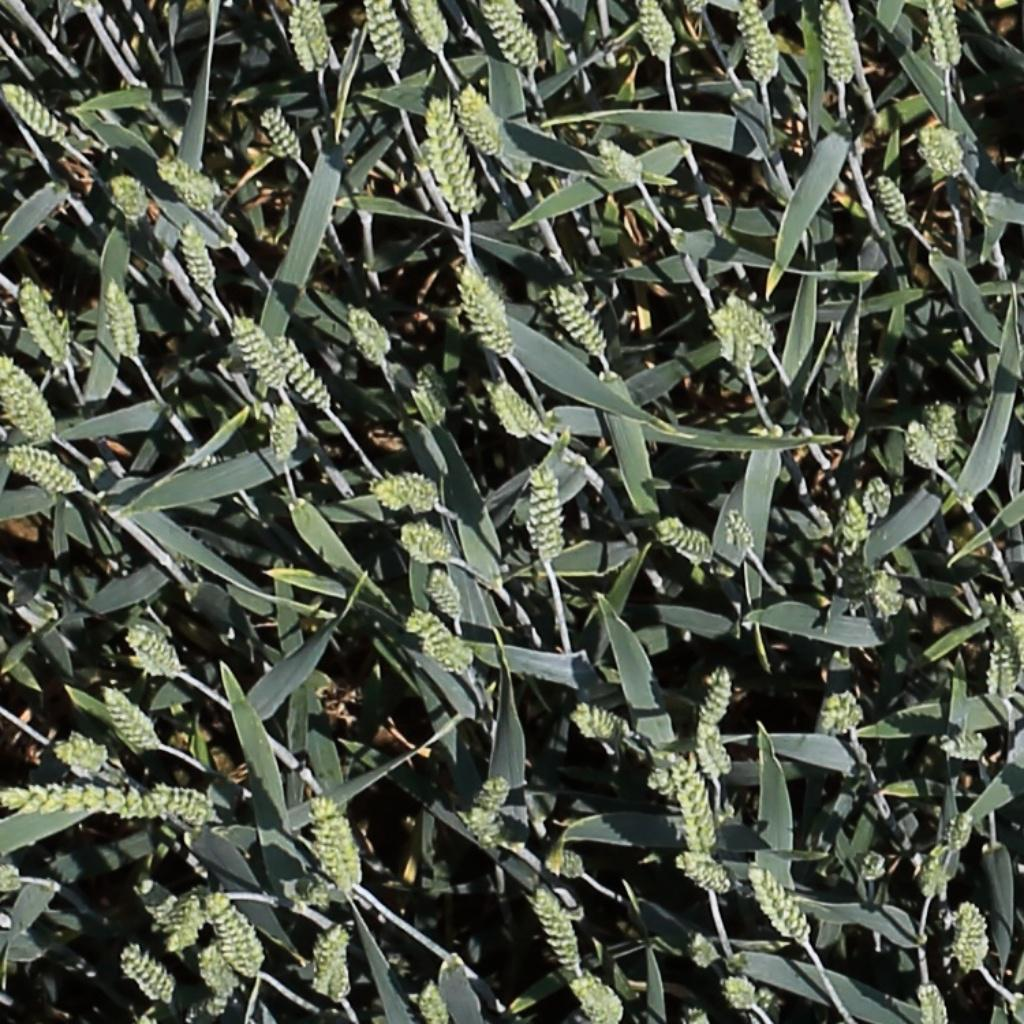0-0: (746, 857, 819, 948), (427, 91, 479, 215), (456, 260, 517, 360), (270, 327, 335, 415), (15, 275, 73, 371), (648, 750, 698, 861), (547, 278, 613, 361), (531, 883, 587, 980), (696, 662, 739, 782), (206, 888, 262, 980), (0, 352, 55, 443), (98, 682, 163, 759), (228, 311, 289, 391), (311, 792, 356, 891), (525, 464, 568, 566), (486, 1, 542, 75), (458, 79, 509, 159), (359, 471, 445, 518), (1, 80, 68, 140), (492, 376, 550, 443), (985, 587, 1024, 685), (117, 943, 177, 1006), (342, 300, 395, 370), (406, 613, 473, 666), (711, 299, 757, 376), (656, 513, 719, 569), (154, 779, 226, 828), (102, 273, 141, 363), (830, 483, 875, 561), (174, 221, 218, 300), (740, 0, 779, 88), (724, 290, 780, 350), (6, 447, 80, 492), (258, 98, 307, 165), (824, 1, 860, 90), (364, 1, 406, 77), (124, 625, 182, 678), (468, 775, 513, 843), (155, 155, 218, 203), (873, 166, 918, 233), (527, 843, 586, 894), (166, 888, 207, 958), (412, 354, 453, 424), (319, 922, 352, 1008), (903, 412, 948, 475), (920, 118, 968, 177), (424, 562, 468, 626), (196, 939, 240, 1003), (569, 973, 623, 1022), (410, 0, 453, 61), (912, 845, 957, 902), (596, 132, 647, 182), (927, 2, 961, 76), (640, 0, 678, 66), (291, 0, 328, 67), (955, 898, 984, 980), (107, 167, 147, 225), (677, 856, 735, 895), (933, 726, 995, 762), (989, 629, 1017, 708), (823, 688, 864, 741), (723, 503, 761, 558), (400, 525, 454, 563), (871, 570, 909, 623), (273, 395, 299, 468), (933, 394, 959, 466), (944, 806, 977, 861), (865, 468, 894, 529), (851, 842, 893, 884), (53, 742, 109, 771), (185, 988, 232, 1022), (917, 973, 948, 1024), (419, 974, 450, 1024), (724, 974, 763, 1013), (284, 871, 322, 911)
